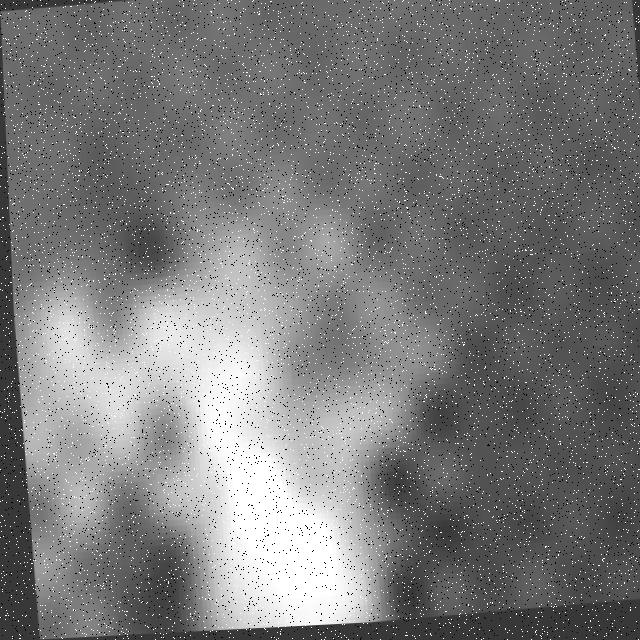person: (91, 147, 429, 638)
